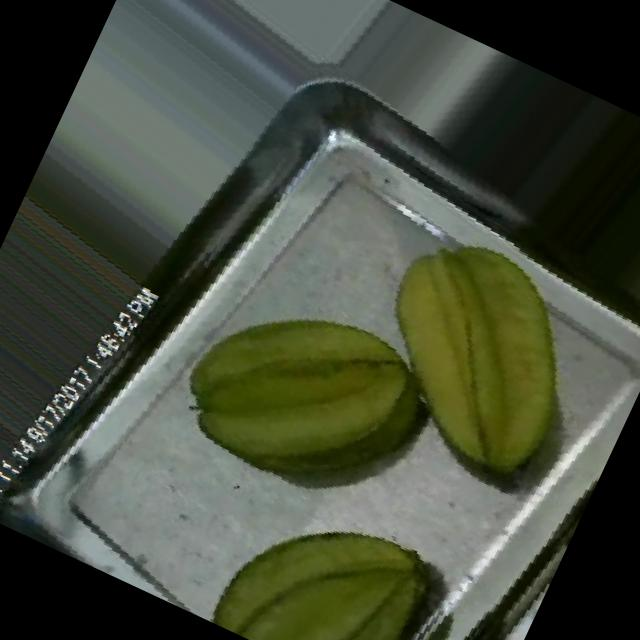fruit: (302, 185, 640, 532), (134, 230, 472, 559), (178, 444, 492, 640)
